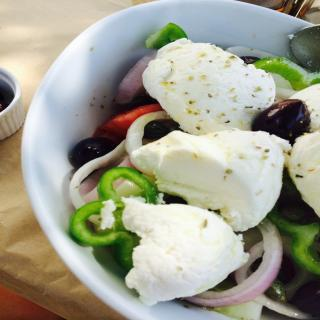Cheese: (125, 126, 294, 231), (124, 196, 250, 307), (142, 36, 273, 136), (283, 128, 320, 218), (289, 81, 320, 130)
Salad: (66, 21, 320, 320)
